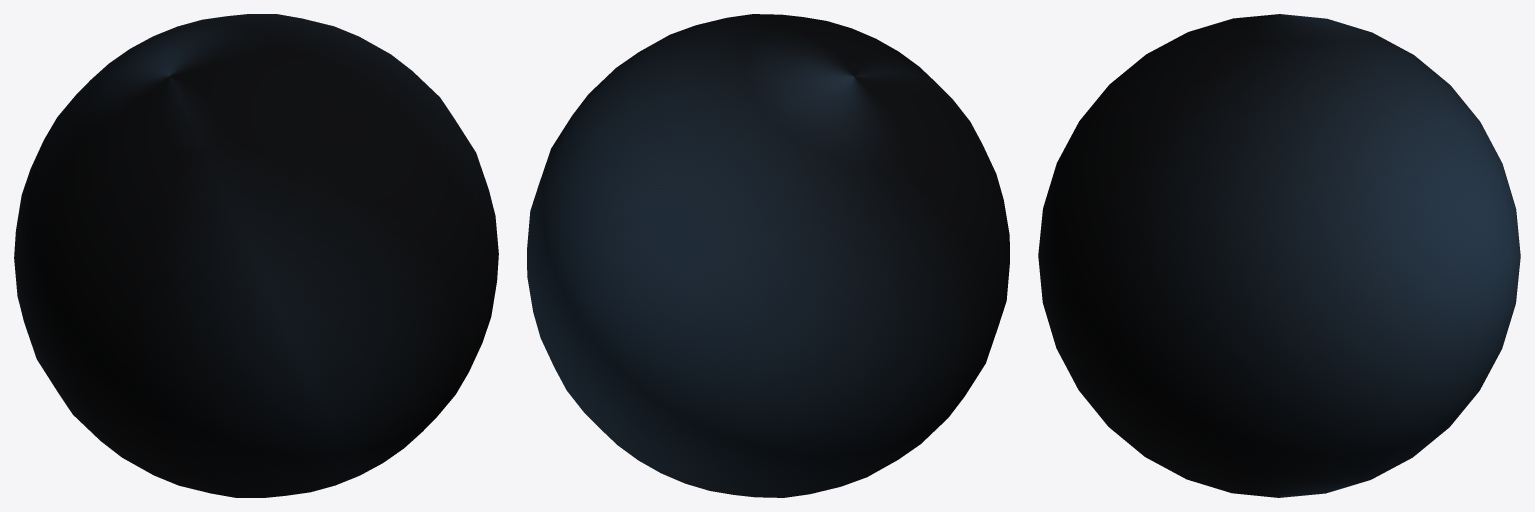
File: without.glb
3 renders of one model, left to right at view 1: azimuth 30°, elevation 25°; view 2: azimuth 150°, elevation 25°; view 3: azimuth 270°, elevation 25°, orthographic.
Parts seen in each view (by area): view 1: Sphere; view 2: Sphere; view 3: Sphere.
Boxes of the visible parts, x1,y1,x2,y2 form: Sphere: (14, 14, 498, 497); Sphere: (527, 14, 1009, 497); Sphere: (1038, 14, 1520, 497).
Size of the model in its own units: 114 by 114 by 113.
Materials: 11 (9 with a texture image).
